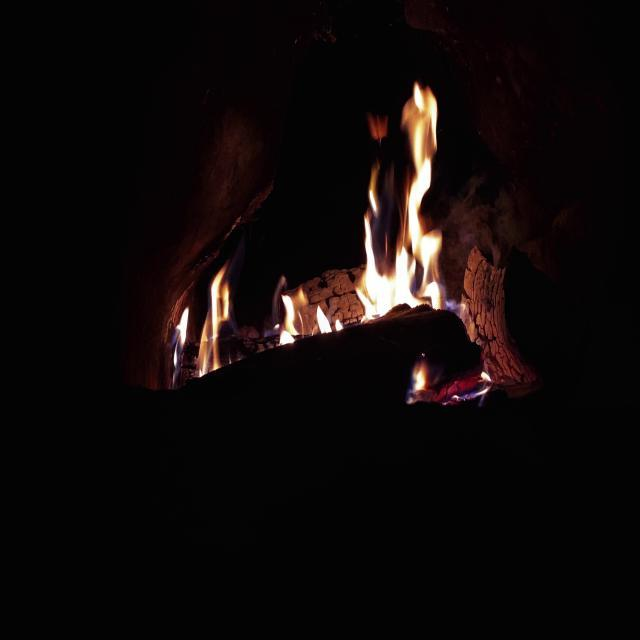Fire: (351, 79, 458, 327), (170, 266, 228, 382), (275, 278, 344, 352)
